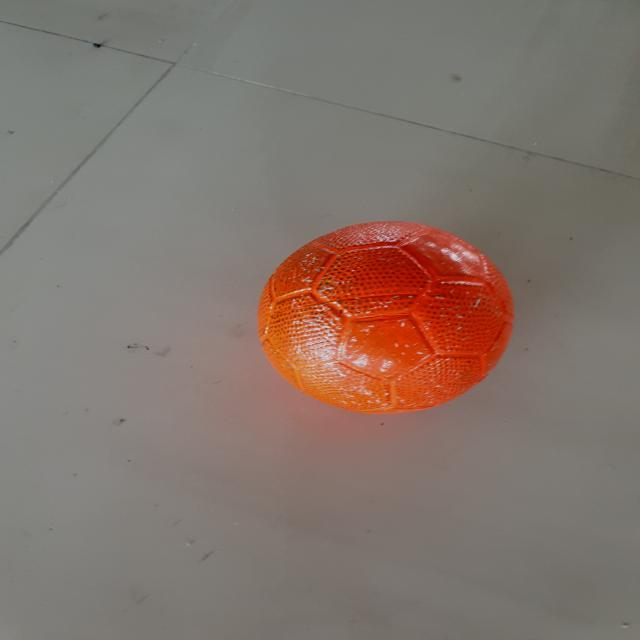bola: (247, 216, 519, 424)
